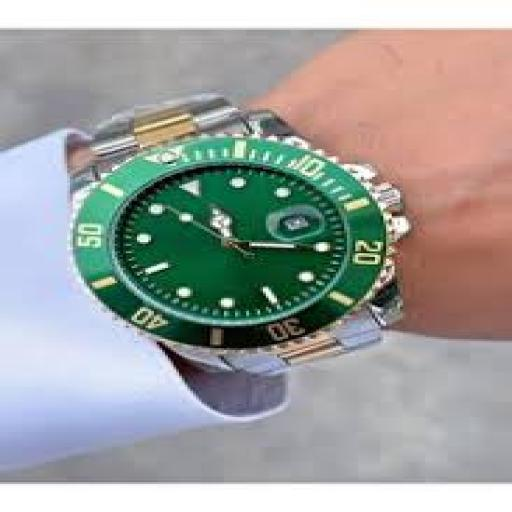KolSaati: (58, 80, 494, 416)
